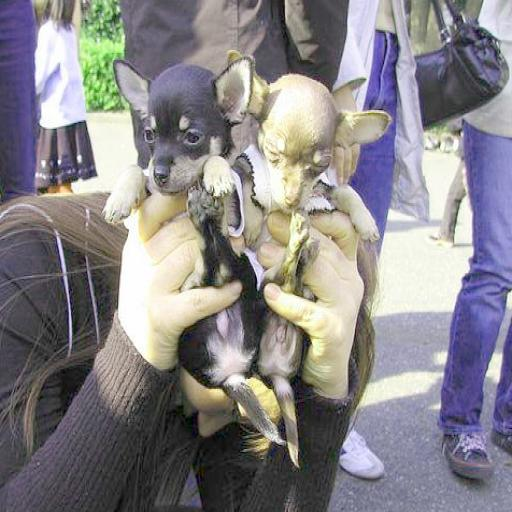dog_face: (228, 44, 394, 218), (113, 58, 256, 192)
